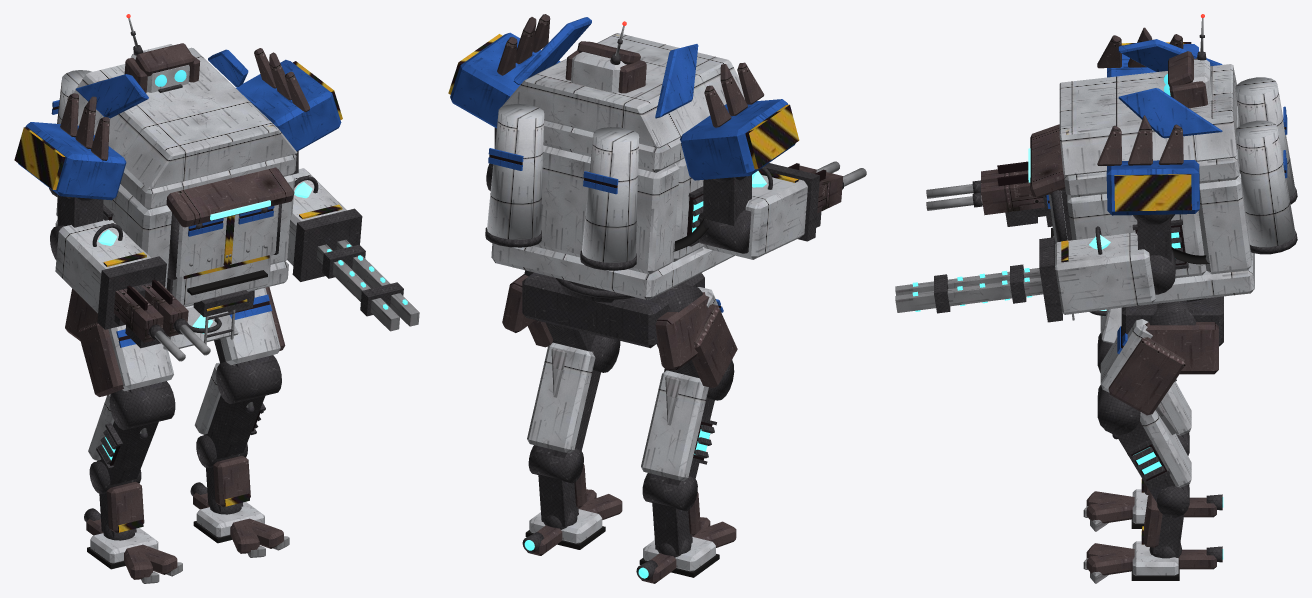
File: mech_lancer.glb
3 renders of one model, left to right at view 1: azimuth 30°, elevation 25°; view 2: azimuth 150°, elevation 25°; view 3: azimuth 270°, elevation 25°, orthographic. The views are drawn at different scales.
Parts seen in each view (by area): view 1: cockpit_lancer_armor, shoulder_L_lancer_livery, CHEST_brow_lancer_armor2, forearm_R_lancer_armor, shoulder_R_lancer_livery, forearm_L_lancer_frame, hand_L_lancer_metal, cockpit_lancer_livery, forearm_R_lancer_frame, hand_R_lancer_armor2, shin_R_lancer_frame, shin_L_lancer_frame (+33 smaller); view 2: cockpit_lancer_armor, torso_lancer_armor, pelvis_lancer_frame, shin_L_lancer_armor, shin_R_lancer_armor, shoulder_R_lancer_livery, forearm_R_lancer_armor, shoulder_L_lancer_livery, cockpit_lancer_livery, pelvis_lancer_armor2, thigh_R_lancer_armor2, shoulder_R_lancer_armor2 (+26 smaller); view 3: cockpit_lancer_armor, torso_lancer_armor, forearm_L_lancer_armor, cockpit_lancer_livery, thigh_L_lancer_armor2, hand_L_lancer_metal, shoulder_L_lancer_hazard, pelvis_lancer_armor2, shoulder_L_lancer_armor2, CHEST_brow_lancer_armor2, shoulder_L_lancer_livery, hand_R_lancer_armor2 (+28 smaller).
Part boxes in pixels (x1,y1,x2,y2): cockpit_lancer_armor: [55, 47, 297, 307]; shoulder_L_lancer_livery: [236, 59, 341, 151]; CHEST_brow_lancer_armor2: [166, 167, 294, 227]; forearm_R_lancer_armor: [55, 219, 151, 313]; shoulder_R_lancer_livery: [18, 122, 126, 200]; forearm_L_lancer_frame: [292, 176, 362, 281]; hand_L_lancer_metal: [316, 239, 419, 331]; cockpit_lancer_livery: [75, 49, 248, 118]; forearm_R_lancer_frame: [92, 223, 166, 329]; hand_R_lancer_armor2: [113, 281, 188, 342]; shin_R_lancer_frame: [96, 421, 158, 485]; shin_L_lancer_frame: [204, 395, 265, 459]; cockpit_lancer_armor: [491, 33, 744, 300]; torso_lancer_armor: [487, 104, 639, 262]; pelvis_lancer_frame: [522, 272, 704, 348]; shin_L_lancer_armor: [527, 342, 595, 453]; shin_R_lancer_armor: [641, 370, 708, 481]; shoulder_R_lancer_livery: [680, 99, 795, 180]; forearm_R_lancer_armor: [703, 175, 807, 259]; shoulder_L_lancer_livery: [450, 32, 560, 128]; cockpit_lancer_livery: [513, 17, 698, 118]; pelvis_lancer_armor2: [502, 274, 709, 370]; thigh_R_lancer_armor2: [692, 304, 737, 387]; shoulder_R_lancer_armor2: [704, 62, 764, 127]; cockpit_lancer_armor: [1059, 64, 1254, 306]; torso_lancer_armor: [1235, 77, 1295, 247]; forearm_L_lancer_armor: [1055, 232, 1155, 314]; cockpit_lancer_livery: [1118, 39, 1222, 138]; thigh_L_lancer_armor2: [1108, 337, 1185, 415]; hand_L_lancer_metal: [895, 268, 1043, 312]; shoulder_L_lancer_hazard: [1114, 174, 1191, 211]; pelvis_lancer_armor2: [1145, 322, 1218, 374]; shoulder_L_lancer_armor2: [1097, 115, 1183, 165]; CHEST_brow_lancer_armor2: [1030, 124, 1065, 198]; shoulder_L_lancer_livery: [1106, 159, 1199, 215]; hand_R_lancer_armor2: [981, 169, 1044, 215].
Size of the model in its own units: 6.49 by 11.16 by 7.79.
14 materials, 7 textured.
